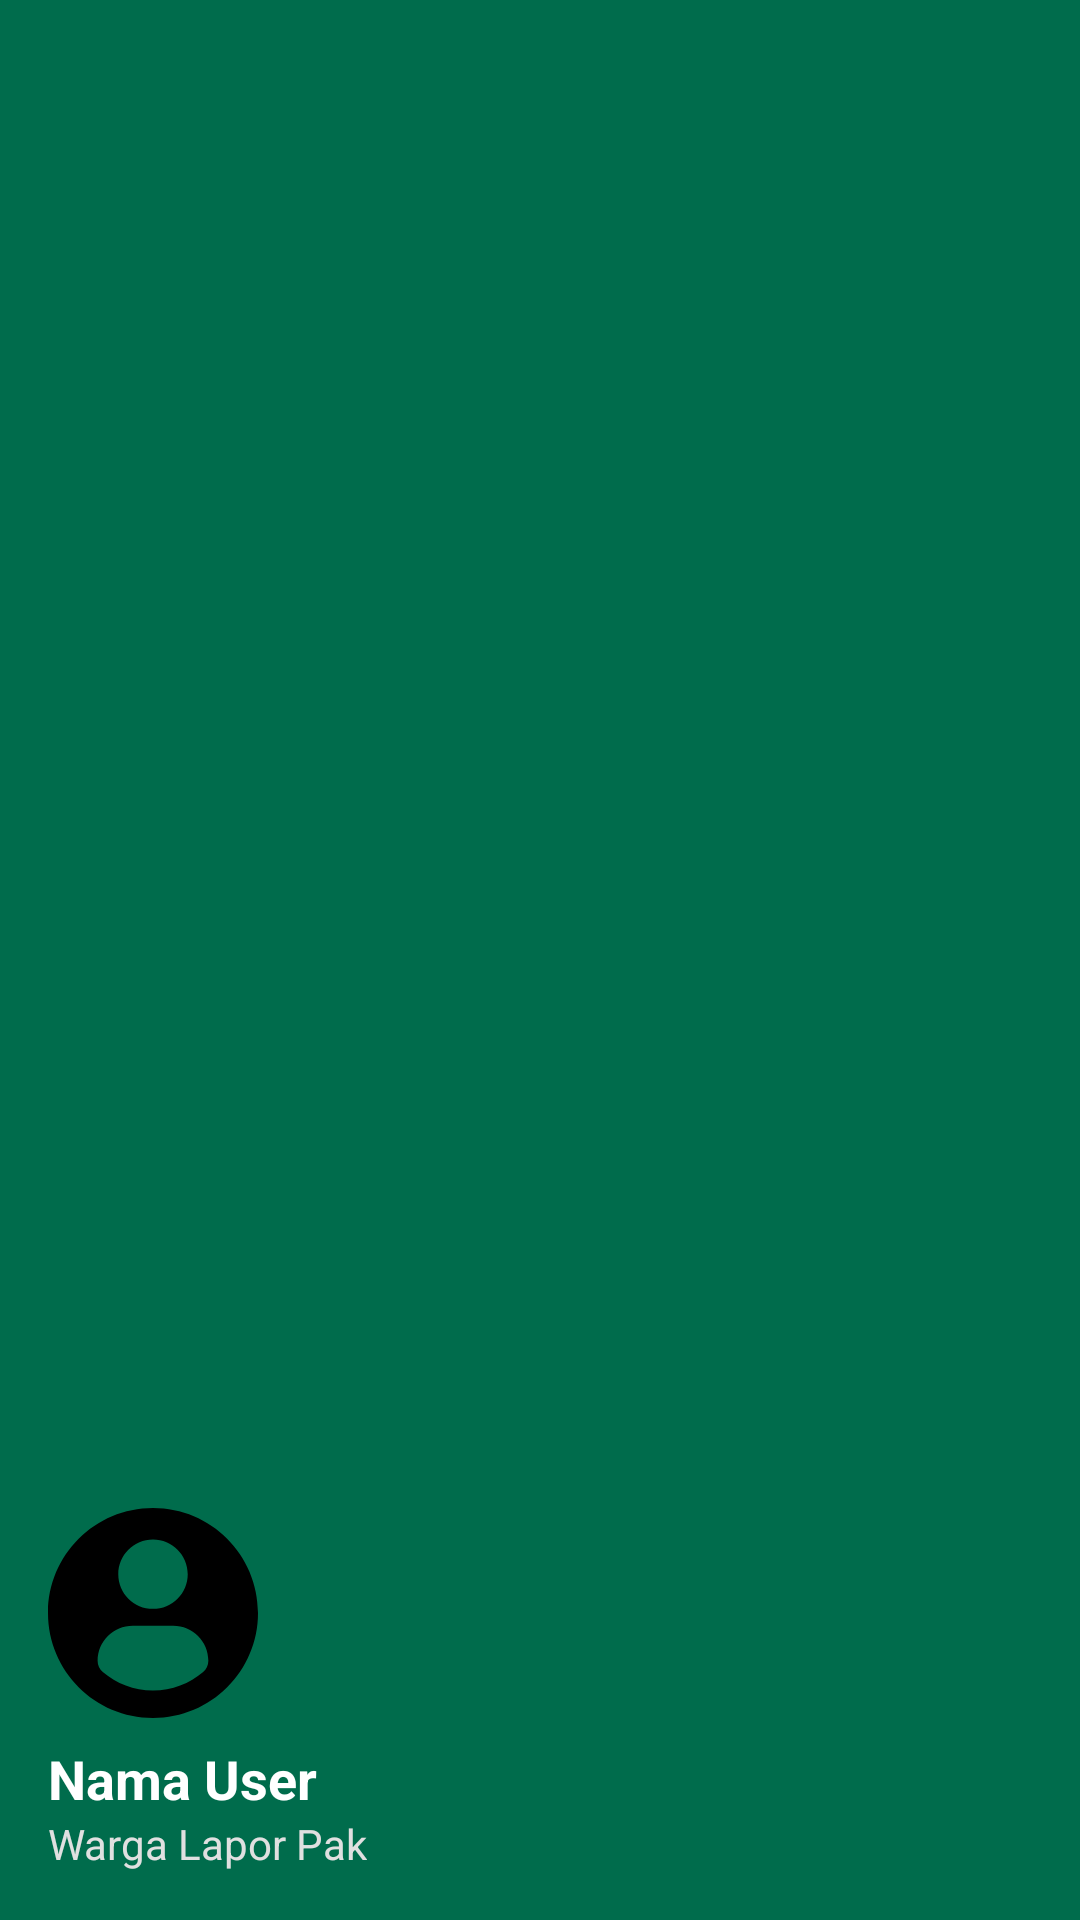

Screen size 1080x1920. Icon name, then its box in pixels as {"x1": x1, "y1": y1, "x2": x2, "y2": y2}:
profile user: {"x1": 48, "y1": 1508, "x2": 258, "y2": 1718}
